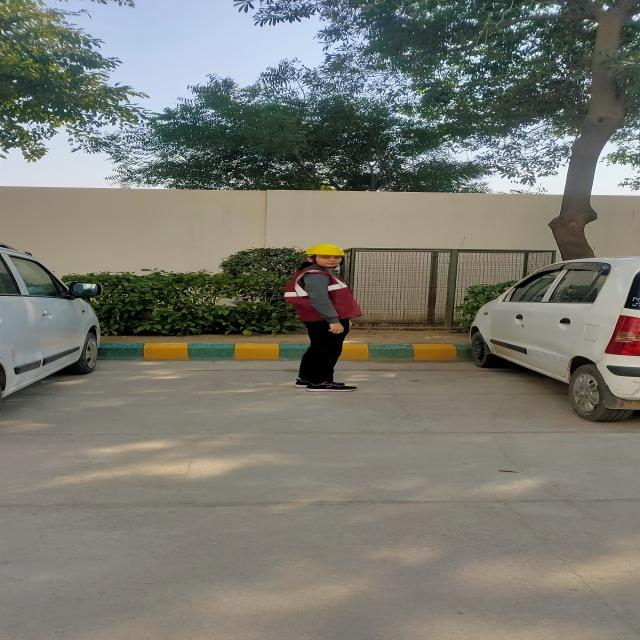safe: (284, 244, 363, 392)
